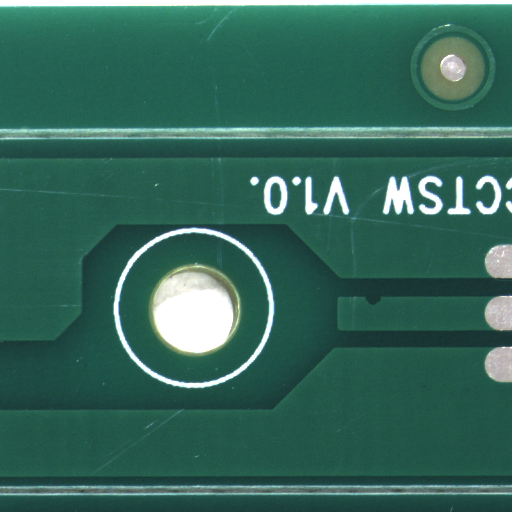Mouse_bite: (374, 301, 388, 311)
